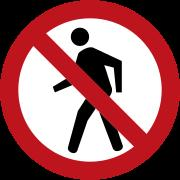Pedestrian Prohibited: (9, 8, 173, 171)
